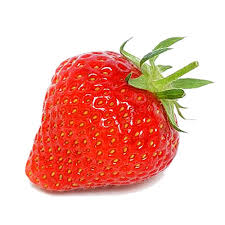strawberry: (23, 37, 209, 196)
